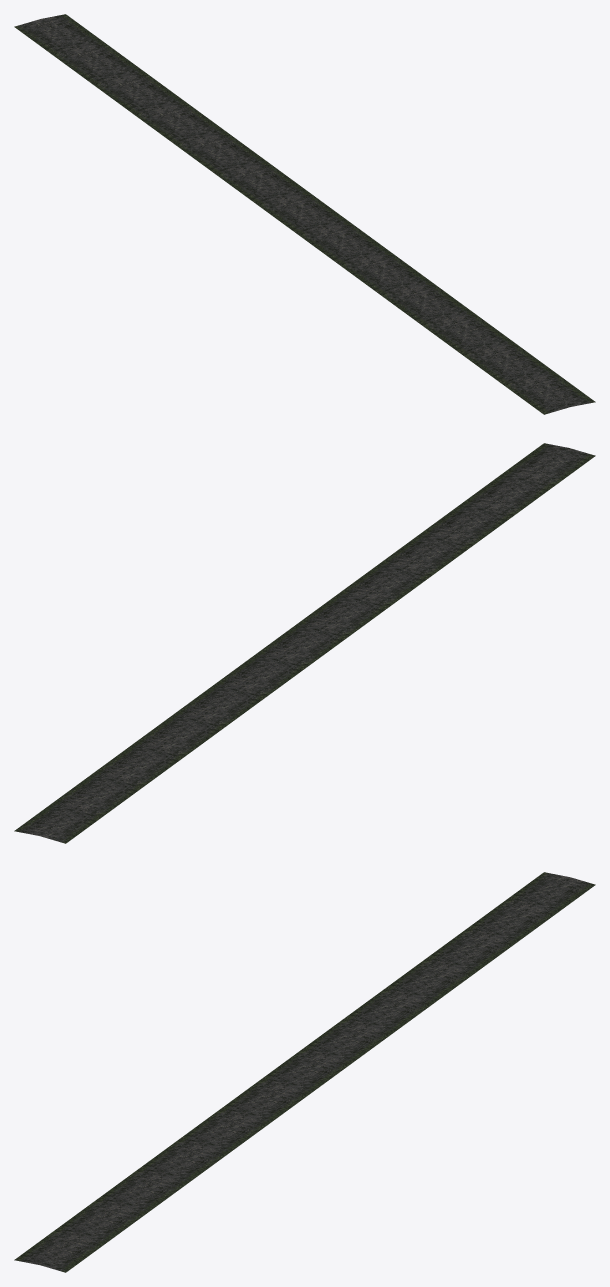
File: SM_EC_PathEdge_1.fbx
3 renders of one model, top to bottom at view 1: azimuth 30°, elevation 25°; view 2: azimuth 150°, elevation 25°; view 3: azimuth 330°, elevation 25°, orthographic.
Parts seen in each view (by area): view 1: SM_EC_PathEdge_1; view 2: SM_EC_PathEdge_1; view 3: SM_EC_PathEdge_1.
Part boxes in pixels (x1,y1,x2,y2): SM_EC_PathEdge_1: (14,14,595,414); SM_EC_PathEdge_1: (14,443,595,843); SM_EC_PathEdge_1: (14,872,595,1272).
Bounding box in the file's own units: 2.19 × 38.74 × 0.0535.
